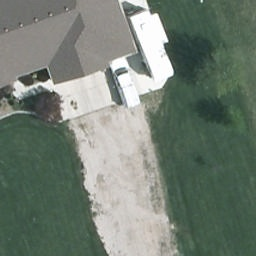camping car: (128, 6, 174, 79)
car: (111, 58, 147, 108)
